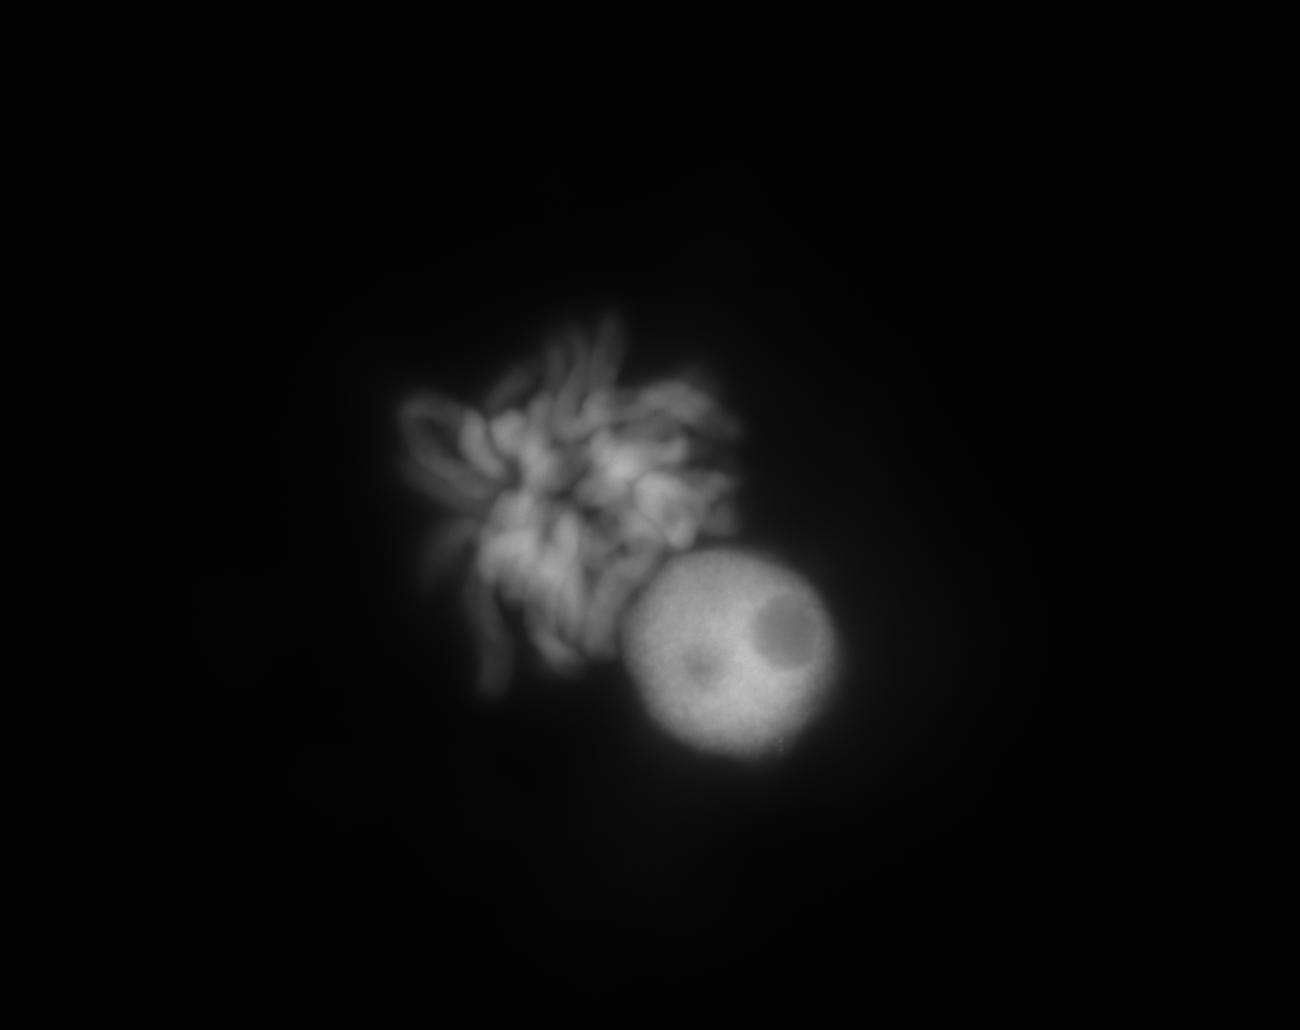Chromosomes: (333, 249, 769, 746)
Others: (610, 524, 867, 797)
